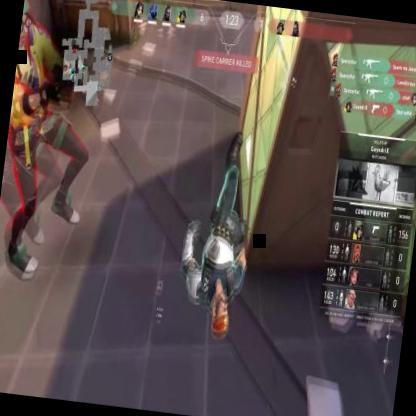enemy: (0, 0, 108, 284)
enemy_head: (18, 0, 34, 50)
